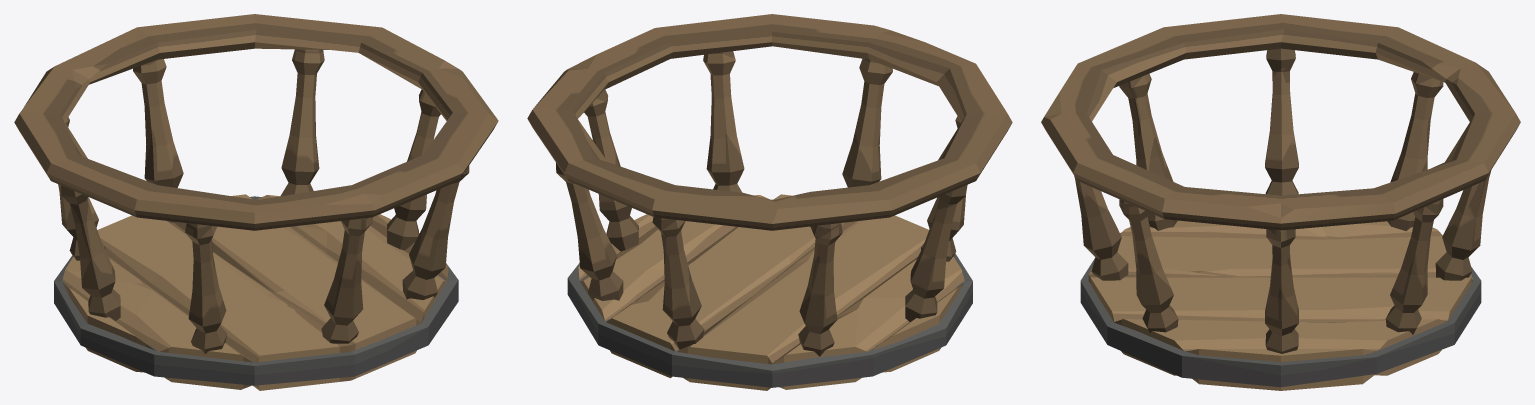
The model's file is SM_Prop_Crows_Nest_01.fbx.
3 renders of one model, left to right at view 1: azimuth 30°, elevation 25°; view 2: azimuth 150°, elevation 25°; view 3: azimuth 270°, elevation 25°, orthographic.
Visible parts, largest first — view 1: SM_Prop_Crows_Nest_01; view 2: SM_Prop_Crows_Nest_01; view 3: SM_Prop_Crows_Nest_01.
Boxes of the visible parts, <box> form: SM_Prop_Crows_Nest_01: <box>14,14,498,390</box>; SM_Prop_Crows_Nest_01: <box>527,14,1012,390</box>; SM_Prop_Crows_Nest_01: <box>1041,14,1520,390</box>.
Size of the model in its own units: 270 by 125 by 270.
